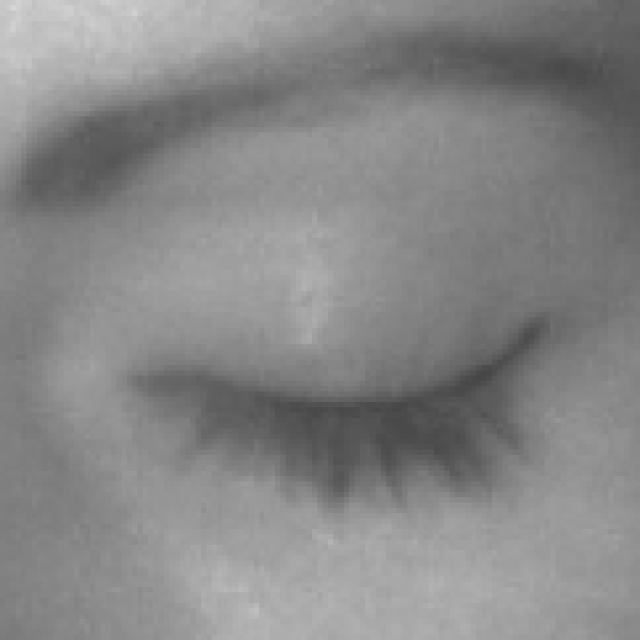close: (20, 22, 640, 555)
